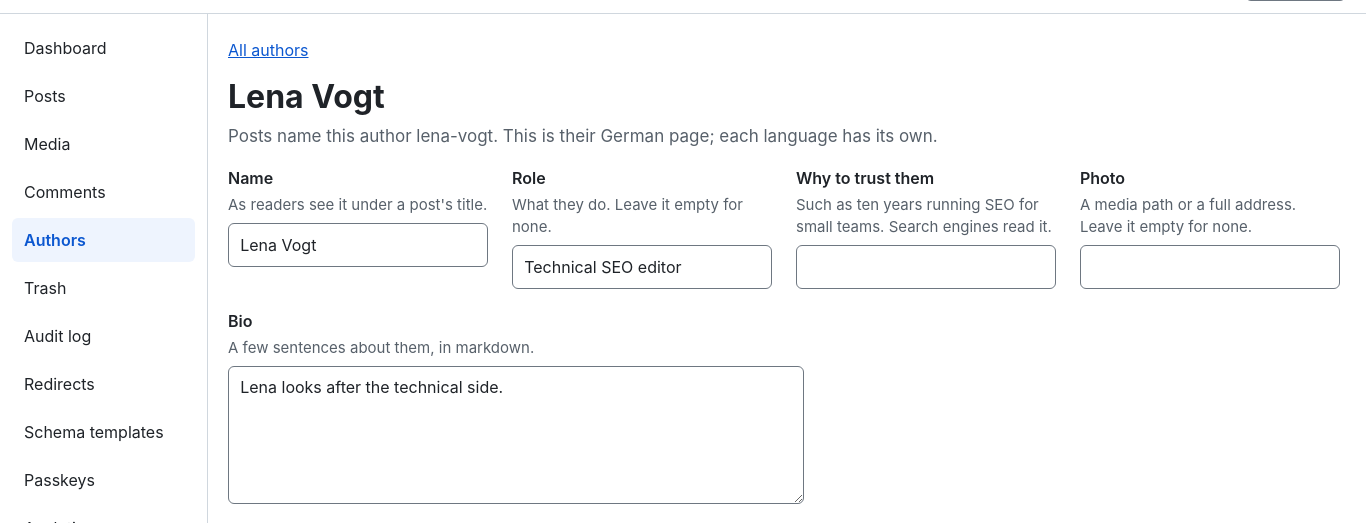
Scenario: an author's page › shows the API's words when someone changed the author first
Step 1. Clear the field labelled "Role" → [642, 267], box x1=512 y1=245 x2=772 y2=289
(page scrolled)
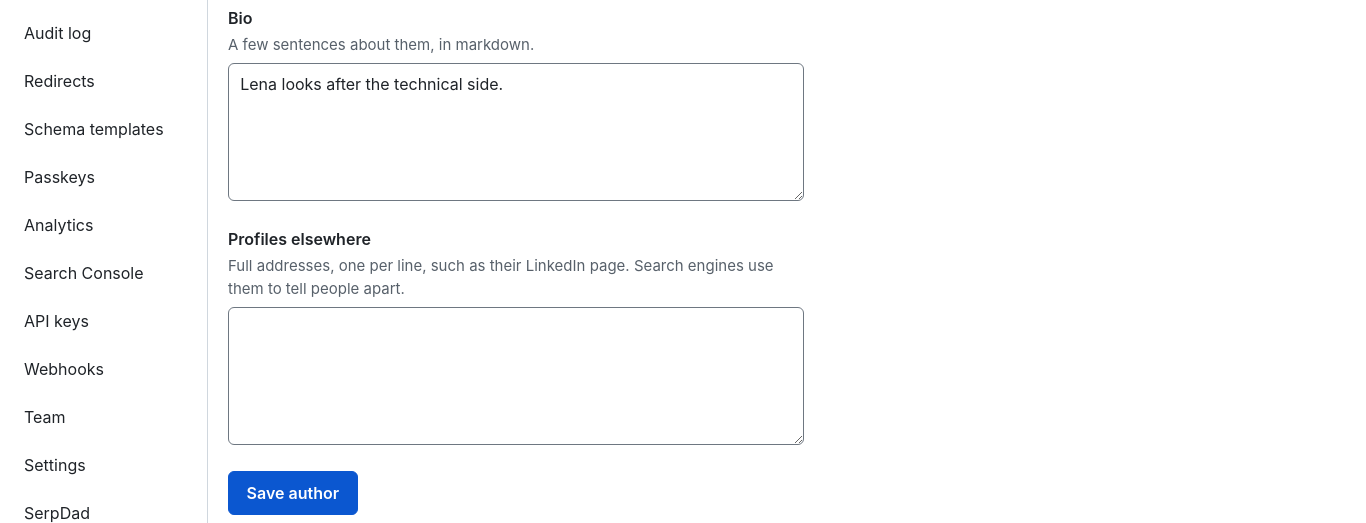
Step 2. Click the button "Save author" → [293, 493], box x1=228 y1=471 x2=358 y2=515
(page scrolled)
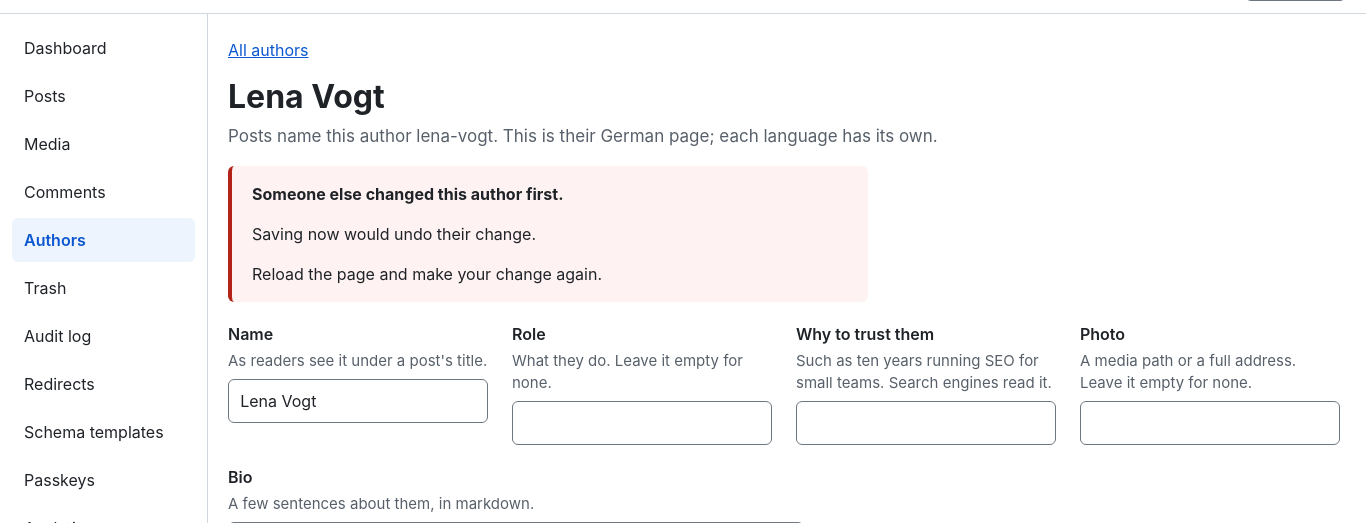
Now the message shows "Someone else changed this author first.", box x1=252 y1=184 x2=564 y2=204
